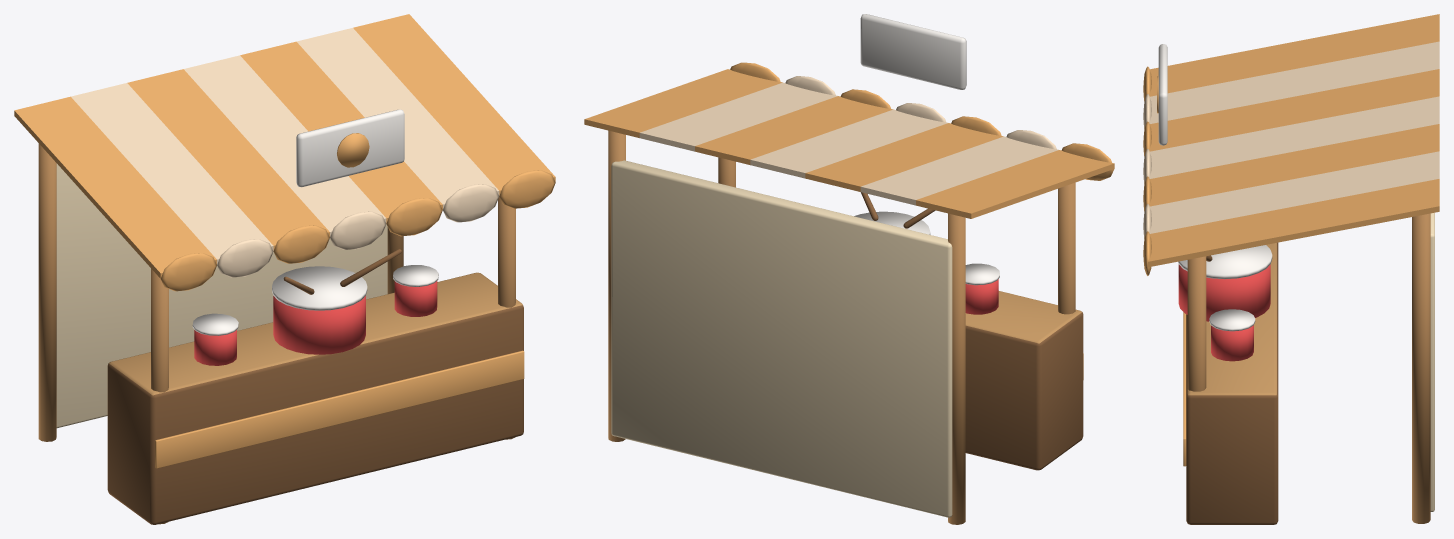
Rendered from festival-booth-music.glb.
3 renders of one model, left to right at view 1: azimuth 30°, elevation 25°; view 2: azimuth 150°, elevation 25°; view 3: azimuth 270°, elevation 25°, orthographic. The views are drawn at different scales.
Parts seen in each view (by area): view 1: booth, goods; view 2: booth, goods; view 3: booth, goods.
Boxes of the visible parts, x1,y1,x2,y2 form: booth: (14, 14, 555, 524); goods: (192, 249, 438, 365); booth: (584, 14, 1114, 524); goods: (854, 192, 999, 314); booth: (1143, 14, 1439, 524); goods: (1178, 245, 1272, 361).
Size of the model in its own units: 2.96 by 2.64 by 1.93.
